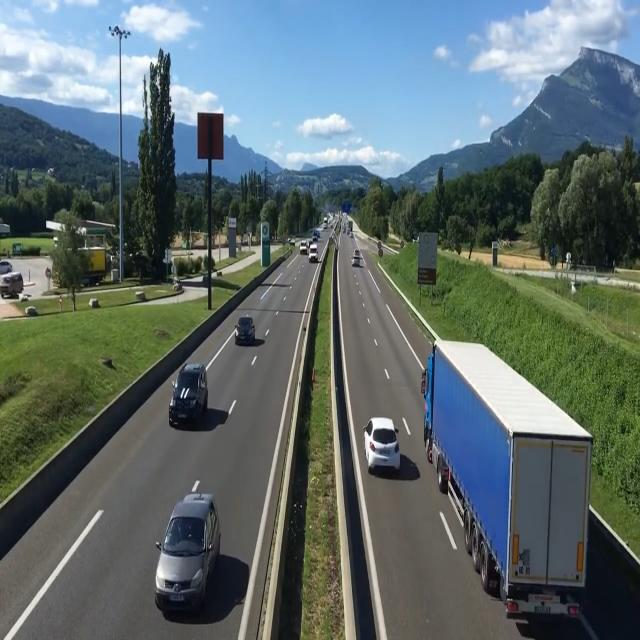car: (156, 479, 220, 620), (169, 359, 211, 430), (365, 416, 403, 477), (235, 312, 263, 346), (308, 242, 320, 266)
truck: (425, 336, 589, 640)
